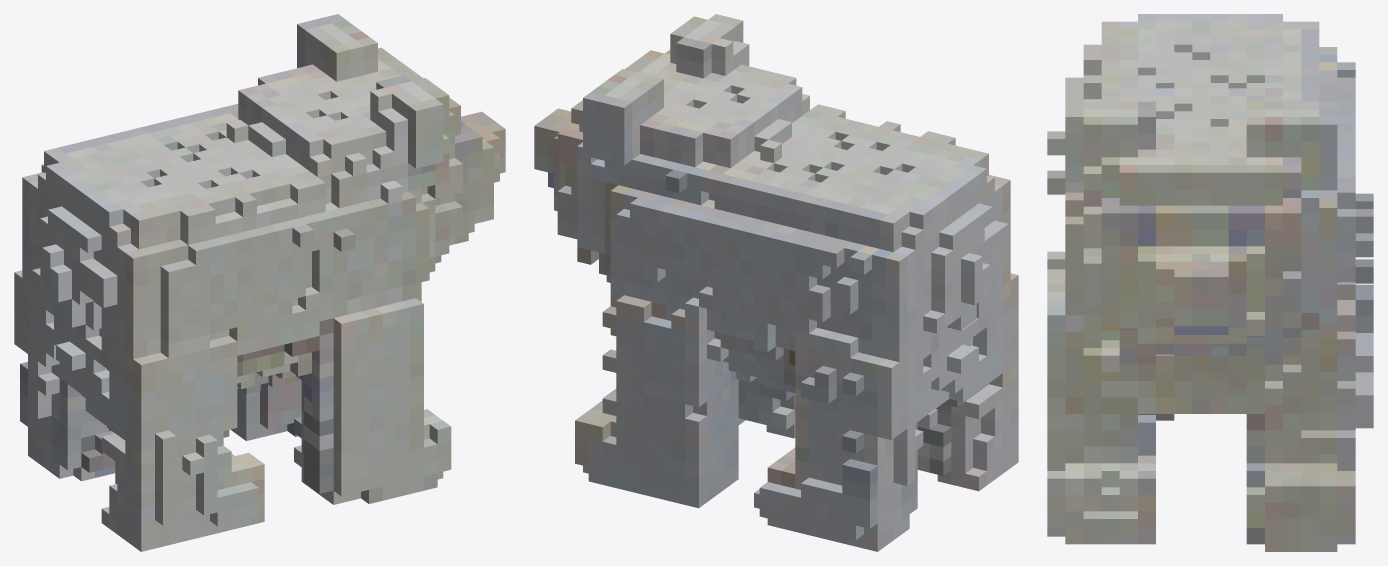
The model's file is white bear.glb.
The picture shows the model from 3 angles, left to right: view 1: azimuth 30°, elevation 25°; view 2: azimuth 150°, elevation 25°; view 3: azimuth 270°, elevation 25°; orthographic projection. The views are drawn at different scales.
Bounding box in the file's own units: 1.05 × 0.8531 × 0.5906.
